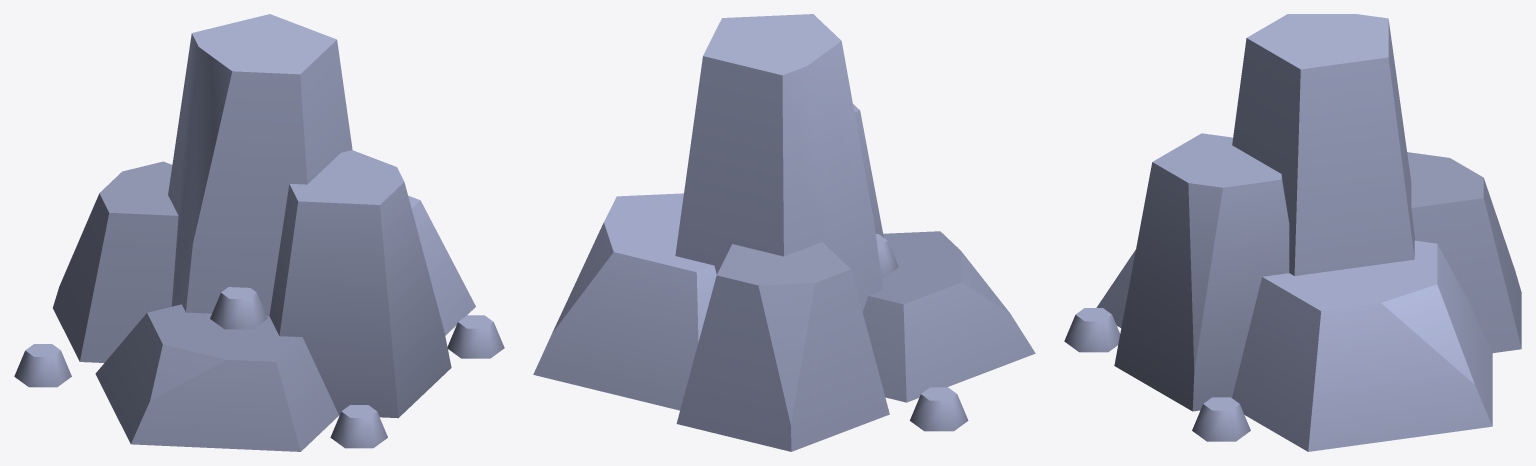
The model's file is rock-large.glb.
3 renders of one model, left to right at view 1: azimuth 30°, elevation 25°; view 2: azimuth 150°, elevation 25°; view 3: azimuth 270°, elevation 25°, orthographic. The views are drawn at different scales.
Parts seen in each view (by area): view 1: rock-large; view 2: rock-large; view 3: rock-large.
Boxes of the visible parts, box(x1,y1,x2,y2) form: rock-large: box(14, 14, 504, 451); rock-large: box(533, 14, 1035, 451); rock-large: box(1064, 14, 1521, 451).
Size of the model in its own units: 2.3 by 1.6 by 2.13.
Materials: 1 (1 with a texture image).
